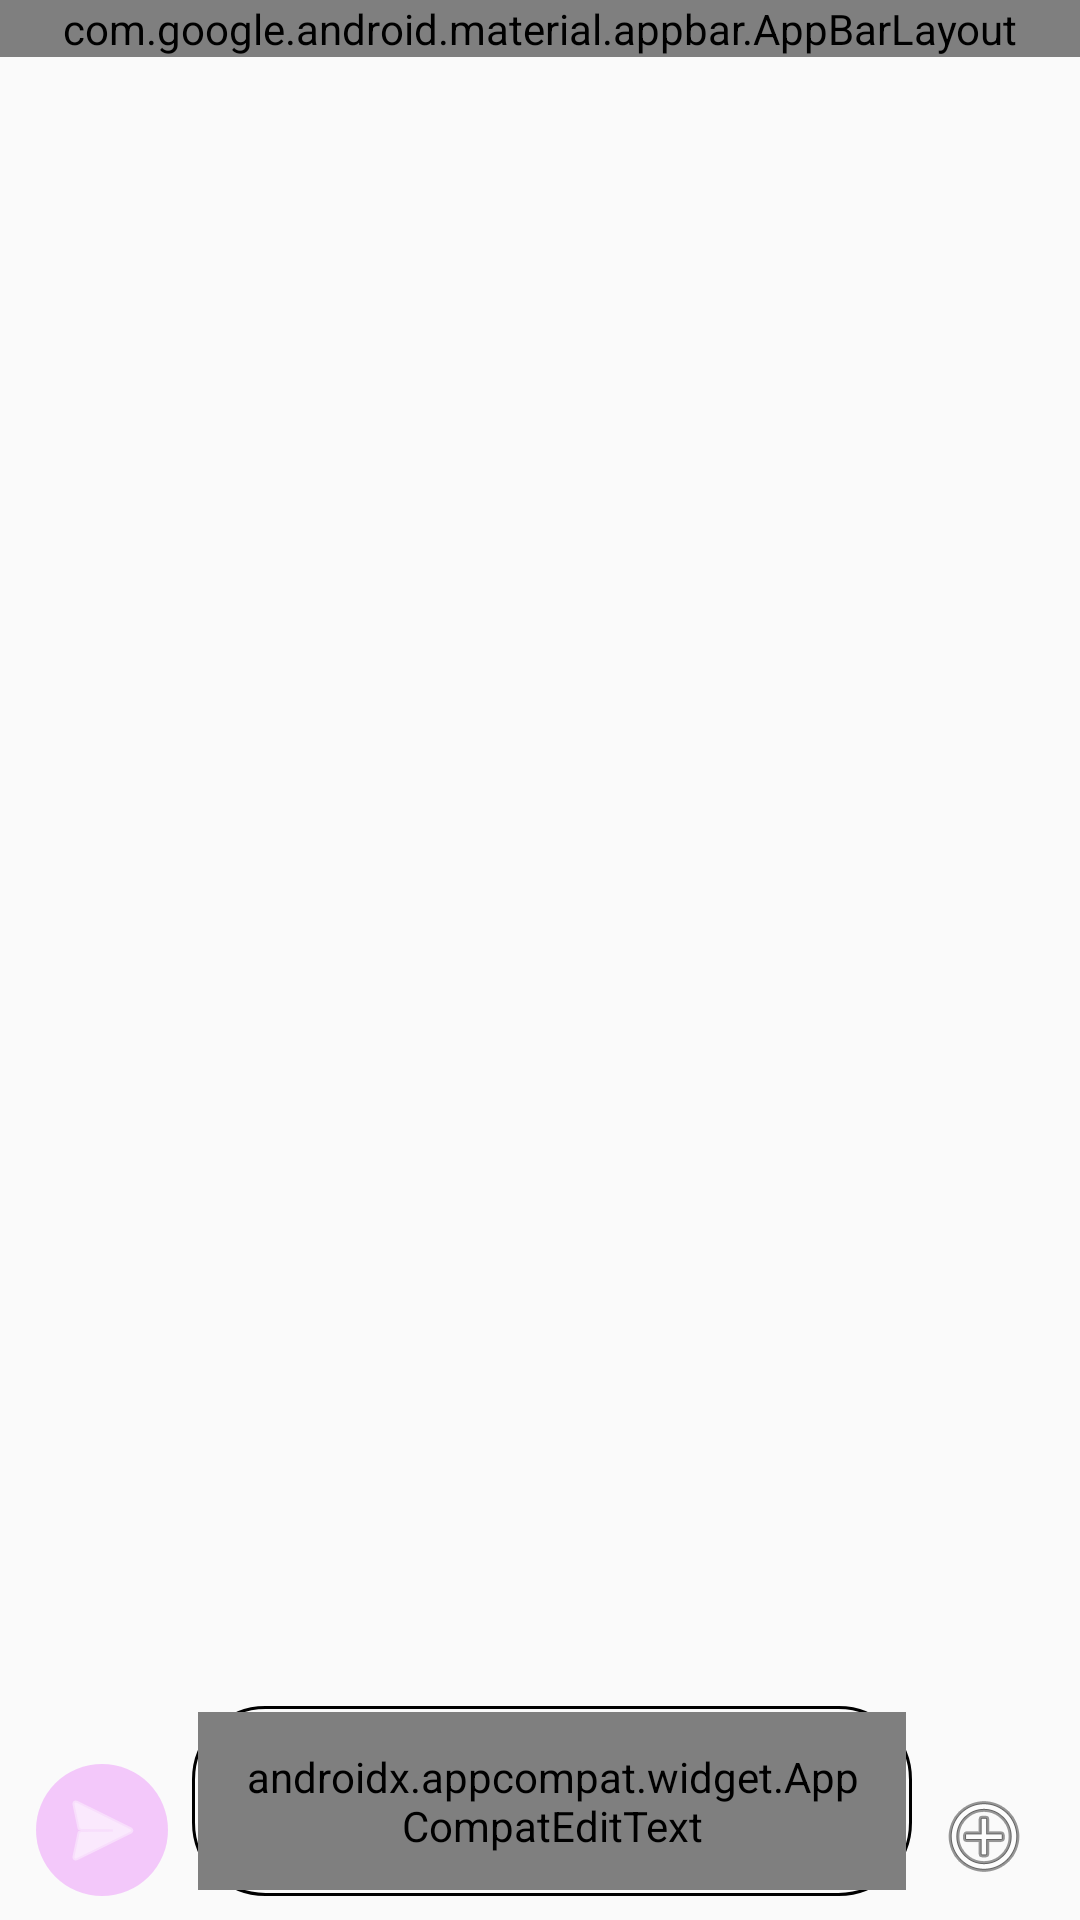

Icon bounding boxes for this 1080 × 1920 phone screenshot, format box=[x1, y1, x2, y2]:
add: box=[948, 1801, 1020, 1872]
send: box=[36, 1764, 168, 1896]
